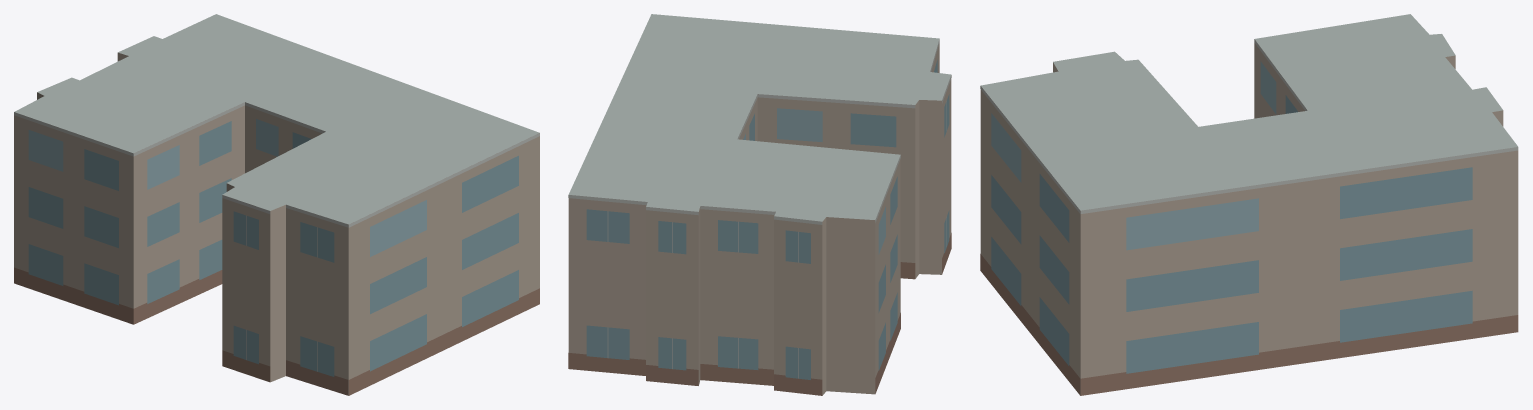
Rendered from survey-upis-32849040.glb.
The picture shows the model from 3 angles, left to right: view 1: azimuth 30°, elevation 25°; view 2: azimuth 150°, elevation 25°; view 3: azimuth 270°, elevation 25°; orthographic projection. The views are drawn at different scales.
Visible parts, largest first — view 1: survey-upis-32849040.tmp; view 2: survey-upis-32849040.tmp; view 3: survey-upis-32849040.tmp.
Part boxes in pixels (x1,y1,x2,y2): survey-upis-32849040.tmp: (14,14,539,395); survey-upis-32849040.tmp: (568,14,951,395); survey-upis-32849040.tmp: (980,14,1518,395).
Size of the model in its own units: 29.04 by 12.75 by 33.57.
